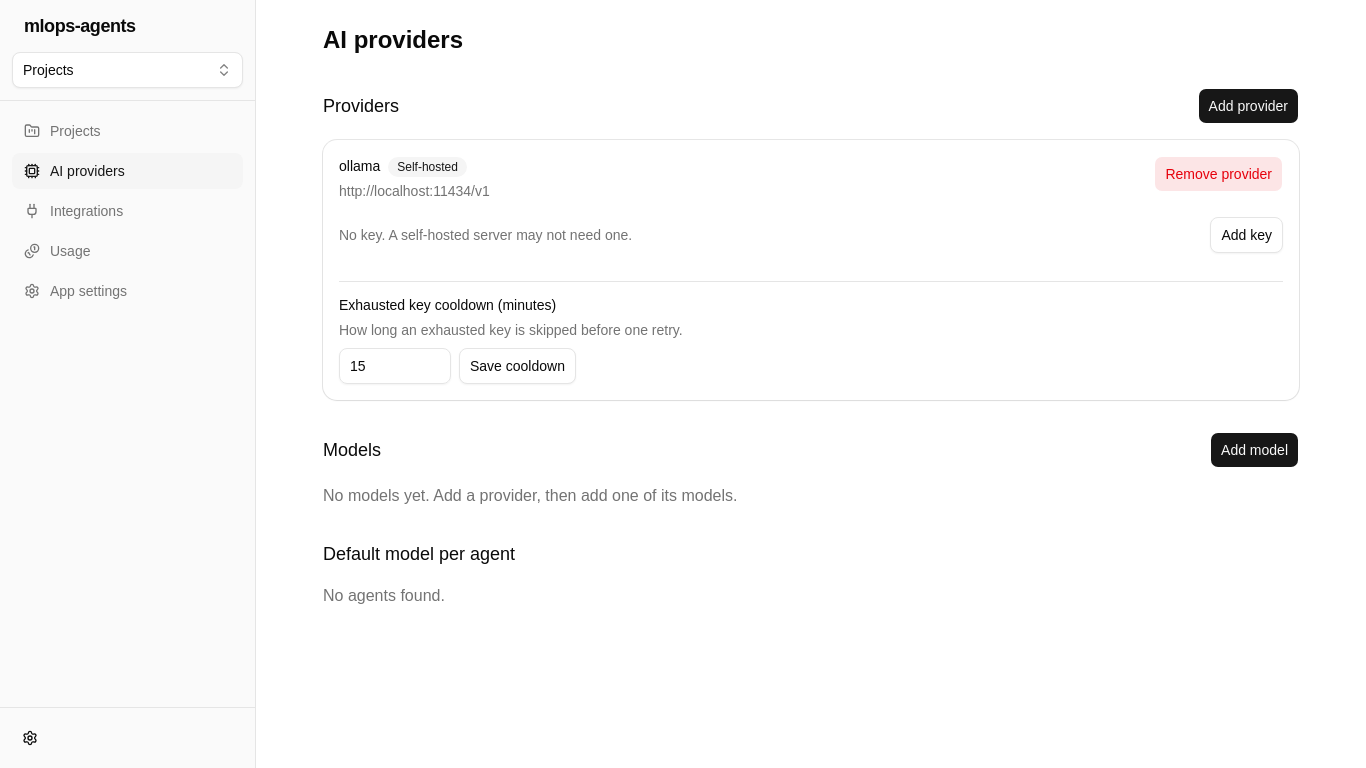
AI providers page › shows the server's message when a new key is rejected
Click the button "Add key" at (1247, 235), box [1210,217,1283,253]
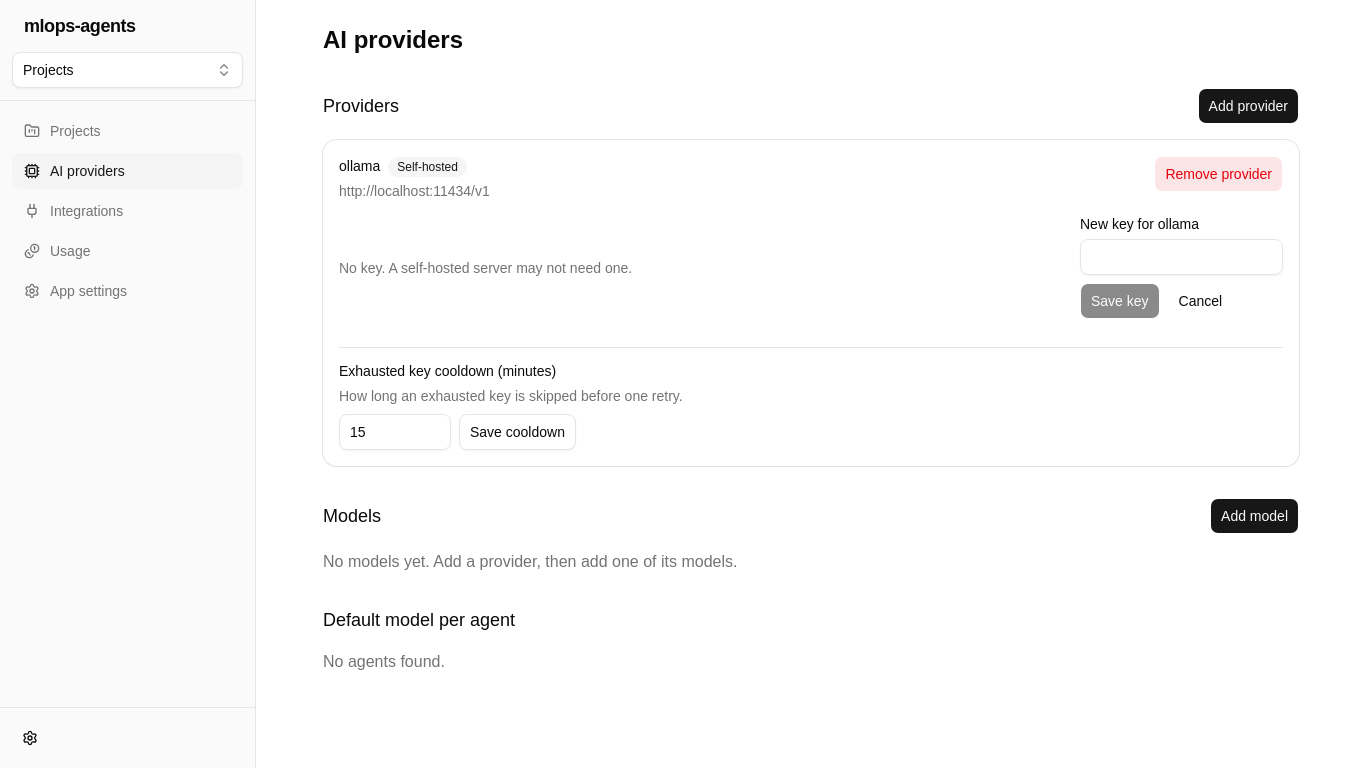
Type "sk-test-not-a-real-key" into the password field labelled "New key for ollama" at (1182, 257), box [1080,239,1283,275]
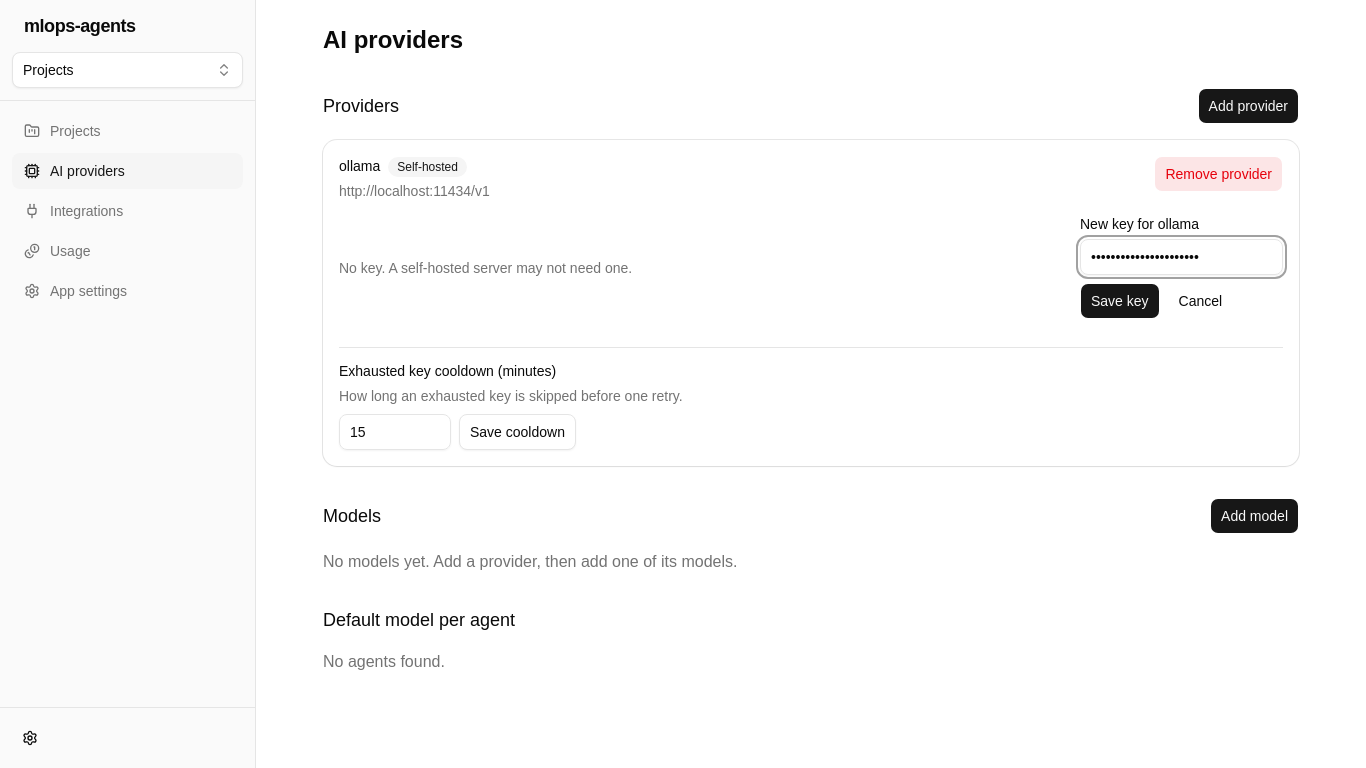
Click the button "Save key" at (1120, 301), box [1080,283,1160,319]
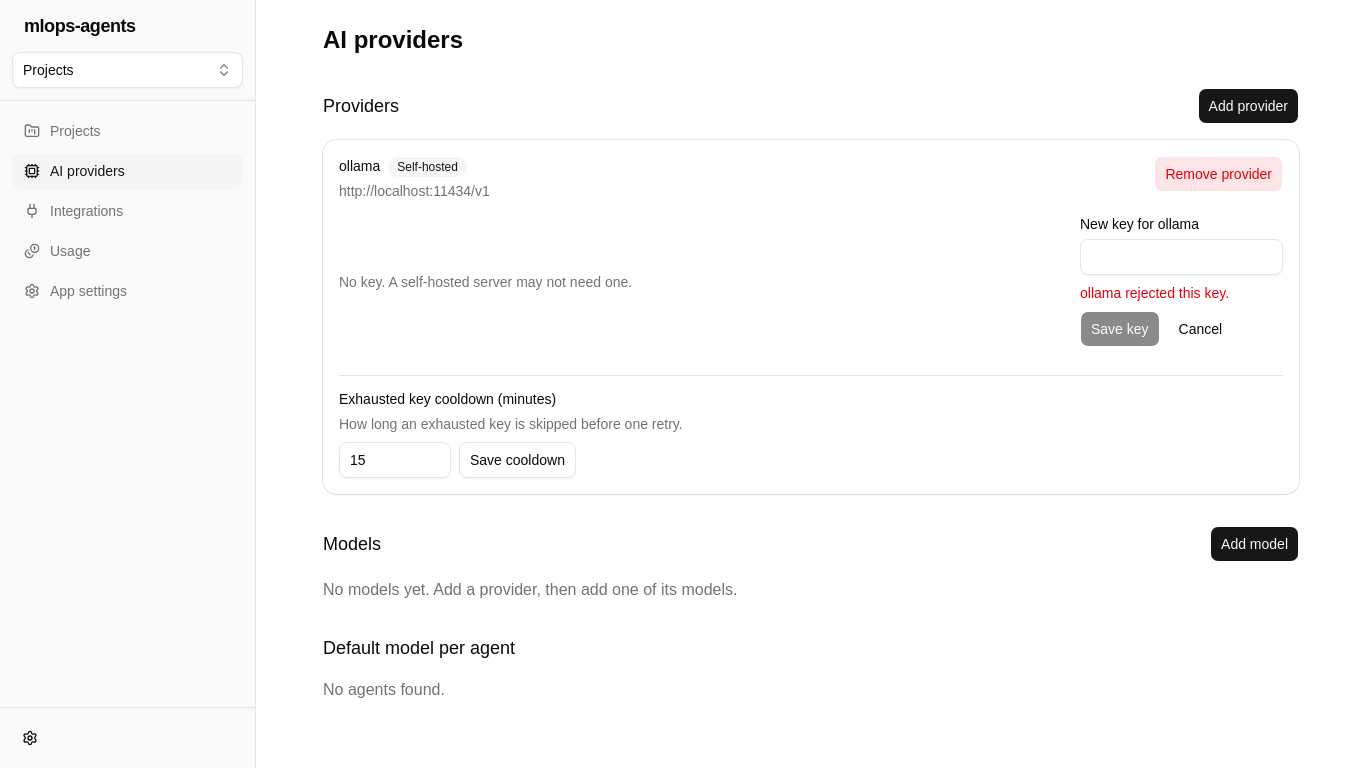
Result: the text "ollama rejected this key." is shown at [1080,285,1229,301]
